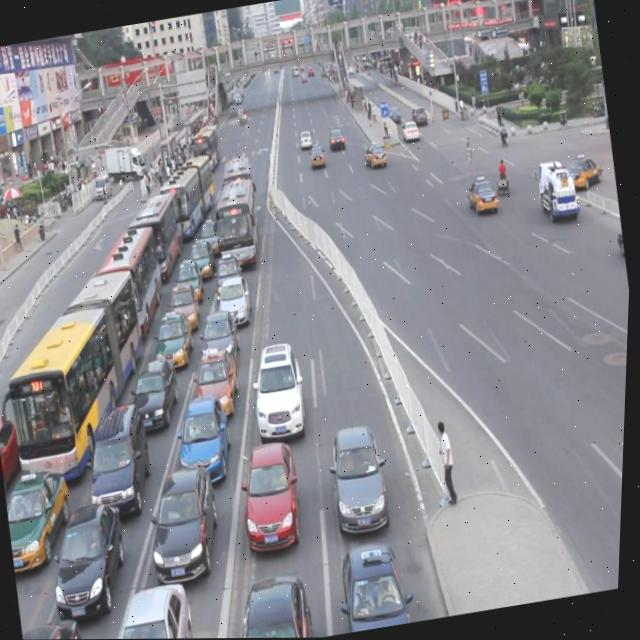bus: (530, 156, 583, 226)
car: (44, 494, 138, 609), (143, 455, 230, 575), (80, 394, 160, 508), (335, 534, 420, 634), (4, 460, 81, 563), (325, 416, 397, 526), (236, 435, 309, 540), (228, 566, 319, 639), (103, 572, 202, 639), (247, 334, 313, 433), (174, 386, 237, 473), (128, 346, 185, 423), (189, 340, 244, 411), (197, 302, 245, 363), (152, 303, 199, 362), (0, 412, 32, 496), (24, 606, 93, 640), (217, 266, 255, 319), (165, 272, 203, 322), (564, 151, 605, 192), (172, 250, 207, 295), (464, 174, 500, 216), (213, 243, 245, 290), (194, 208, 225, 248), (187, 229, 217, 270), (362, 139, 390, 170), (308, 143, 328, 170), (399, 119, 420, 142), (409, 106, 428, 128), (328, 128, 346, 151), (298, 130, 314, 151), (386, 106, 402, 125)
van: (0, 262, 163, 480), (86, 214, 172, 335), (154, 142, 220, 230), (210, 172, 266, 269), (128, 182, 186, 273), (221, 156, 262, 215)
